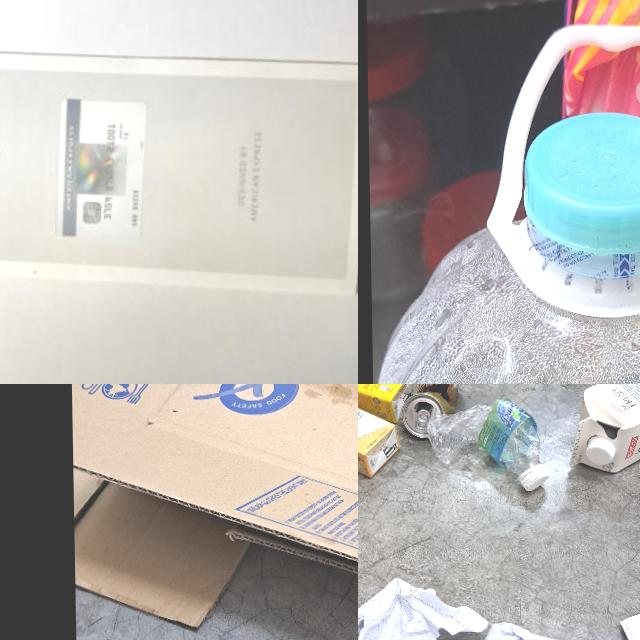aba de lata: (414, 410, 430, 430)
caixinha: (566, 384, 640, 474), (358, 384, 399, 479), (358, 384, 411, 425)
garrafa plástica: (372, 209, 640, 384), (424, 399, 539, 476)
lata: (400, 384, 464, 435)
papel: (0, 34, 358, 304), (358, 577, 488, 640)
papelão: (67, 384, 358, 640)
tampa plástica: (519, 108, 640, 248), (586, 437, 615, 465), (519, 466, 549, 491)
